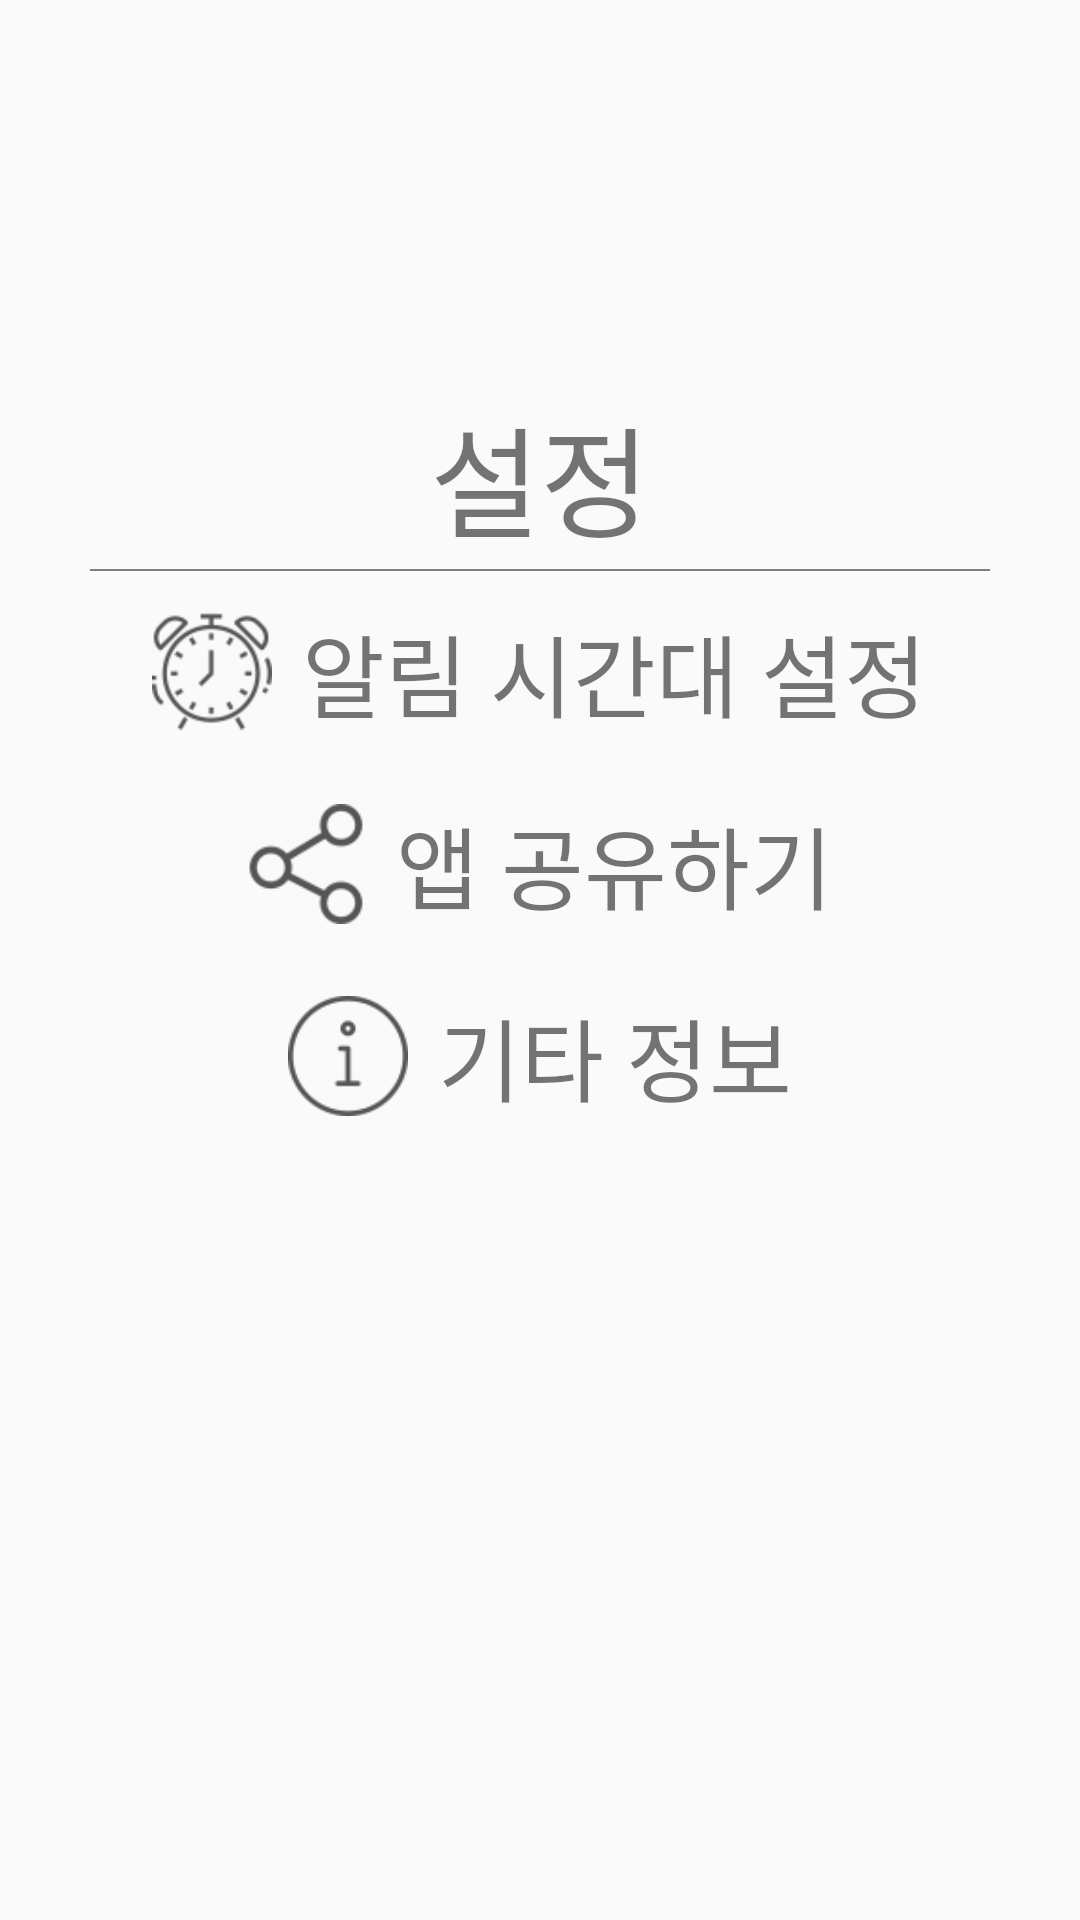

Where icons sit on this 1080×1920 app screen, as (x1, y1, x2, y2):
alarm clock: (152, 613, 272, 730)
info: (288, 996, 408, 1116)
share: (249, 804, 363, 924)
